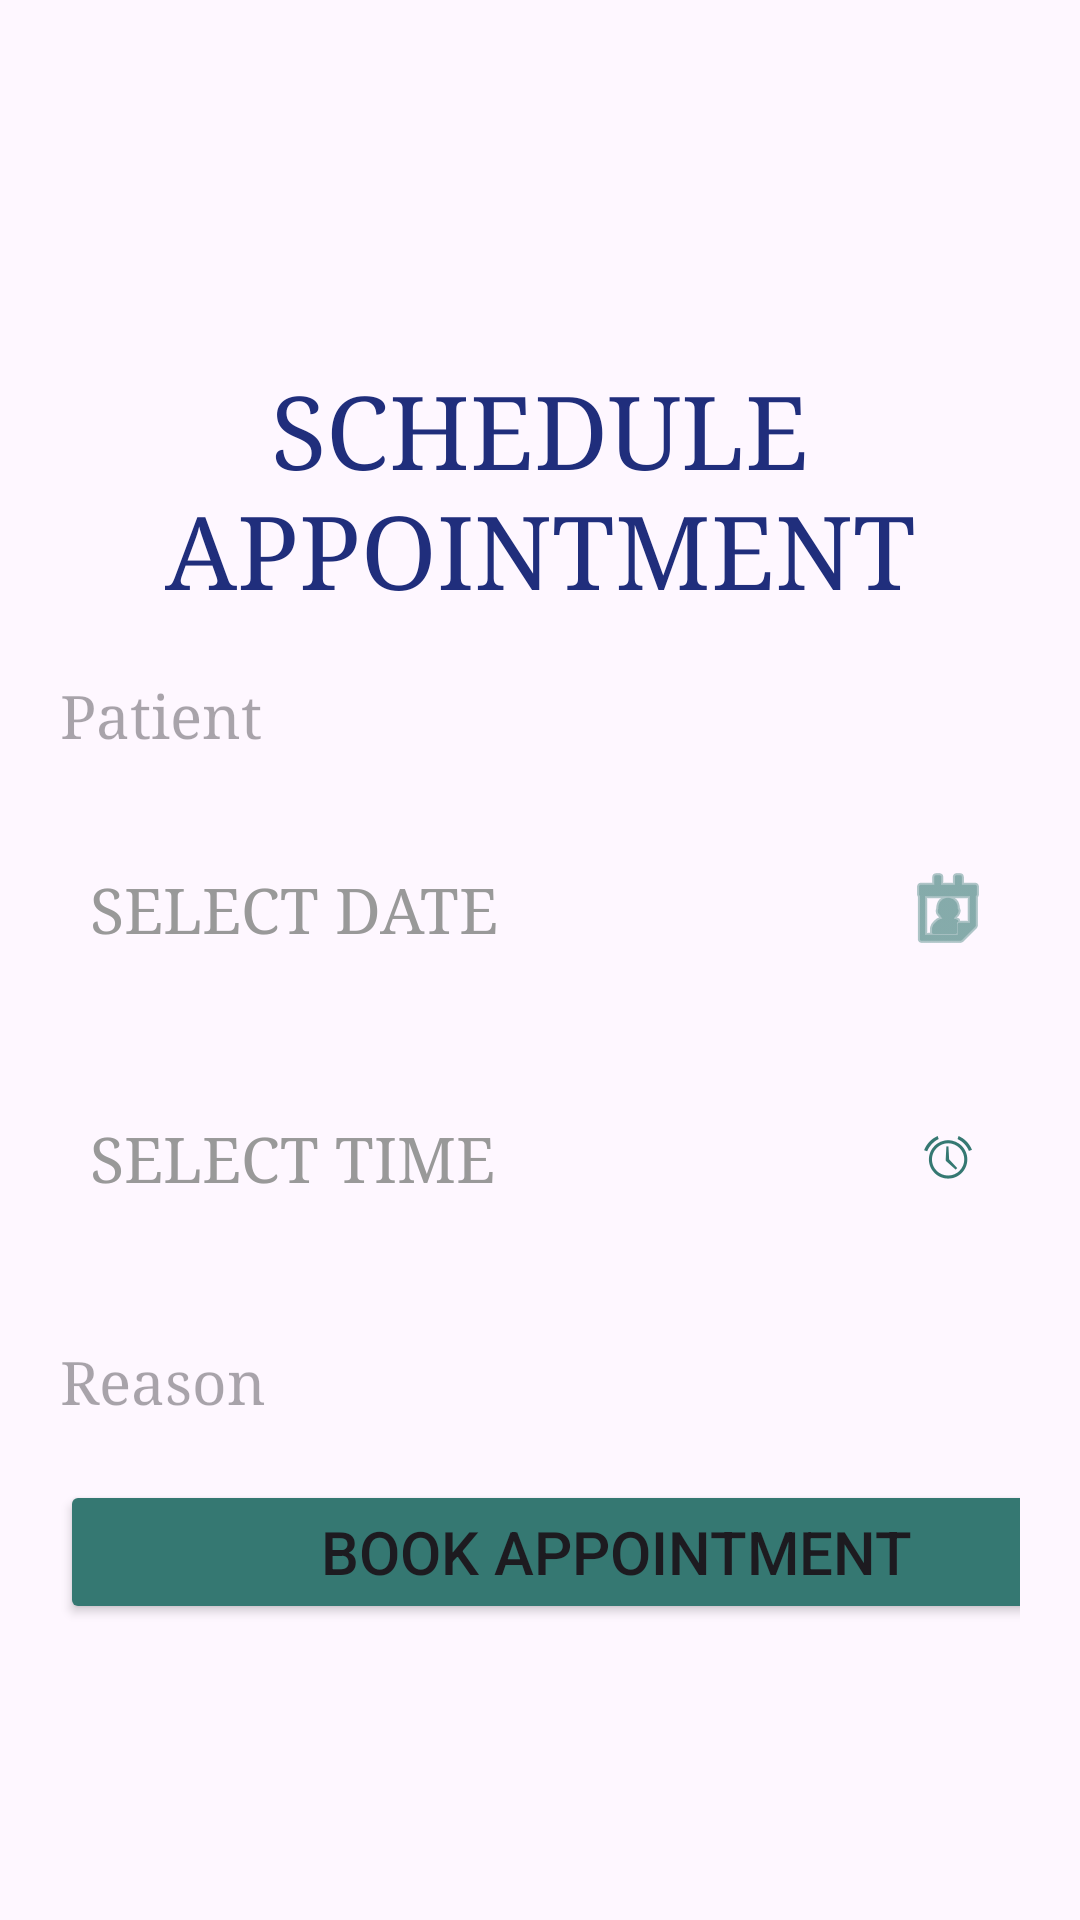

Named icons in this screenshot (1080w x 1920h) and their bounding boxes, (x1, y1, x2, y2):
lock idle alarm: (924, 1136, 972, 1179)
Pick a date: (917, 873, 979, 943)
